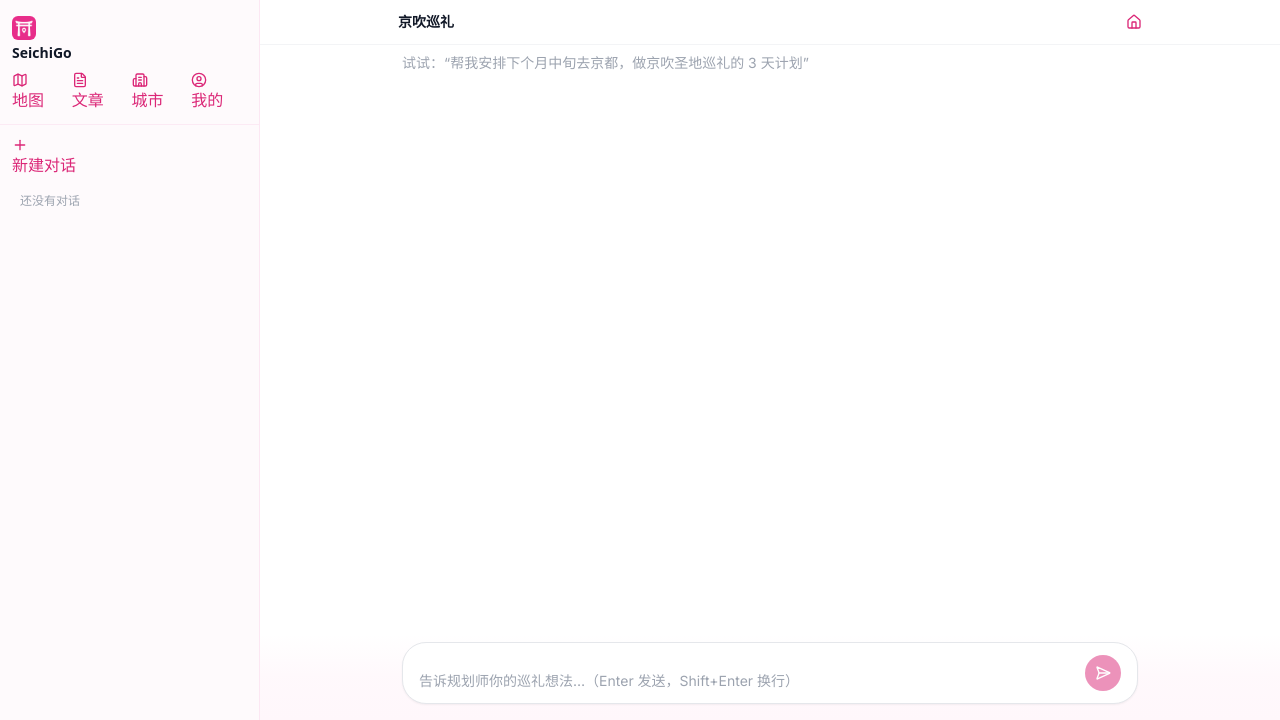
M5 「已停止」定格进历史思维链 › 本轮还没有任何遥测就被停止：仍留下一条「已停止」，不留空气泡
Type "帮我规划宇治 3 天" into the text box with placeholder "告诉规划师你的巡礼想法…（Enter 发送，Shift+Enter 换行）" at (748, 681), box [419,671,1077,691]
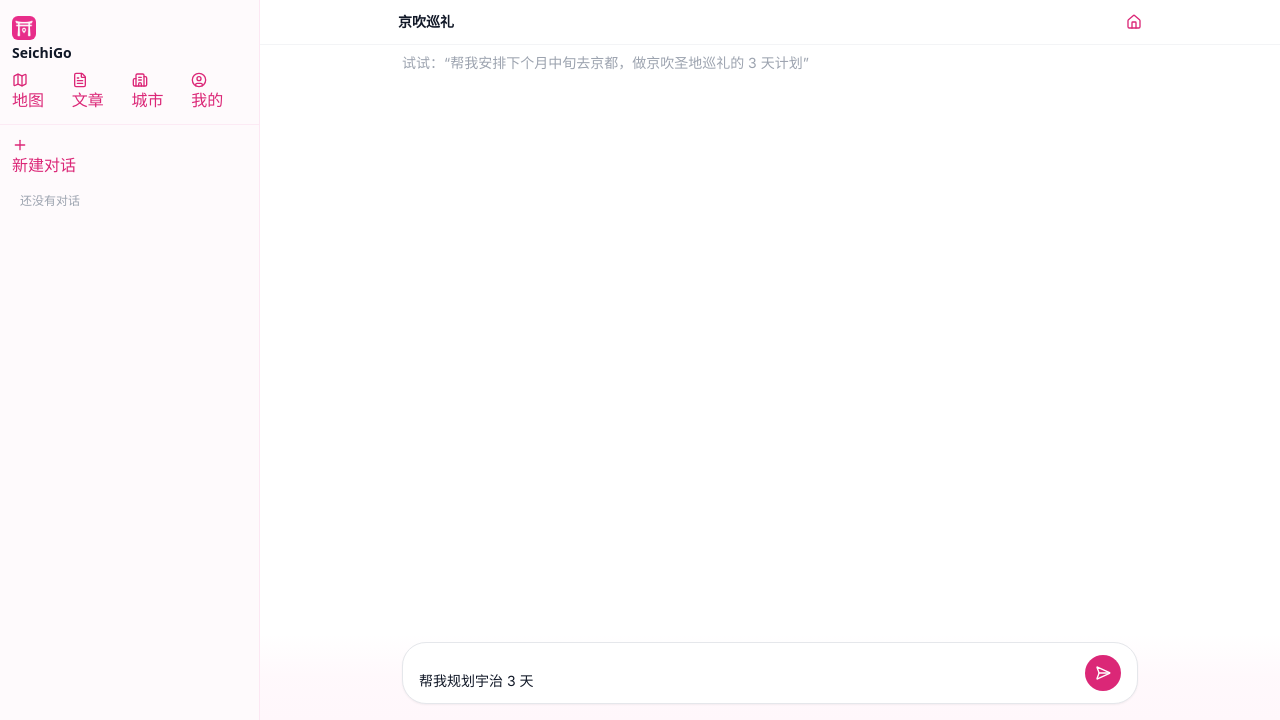
Click the button named "发送" at (1103, 673), box [1085,655,1121,691]
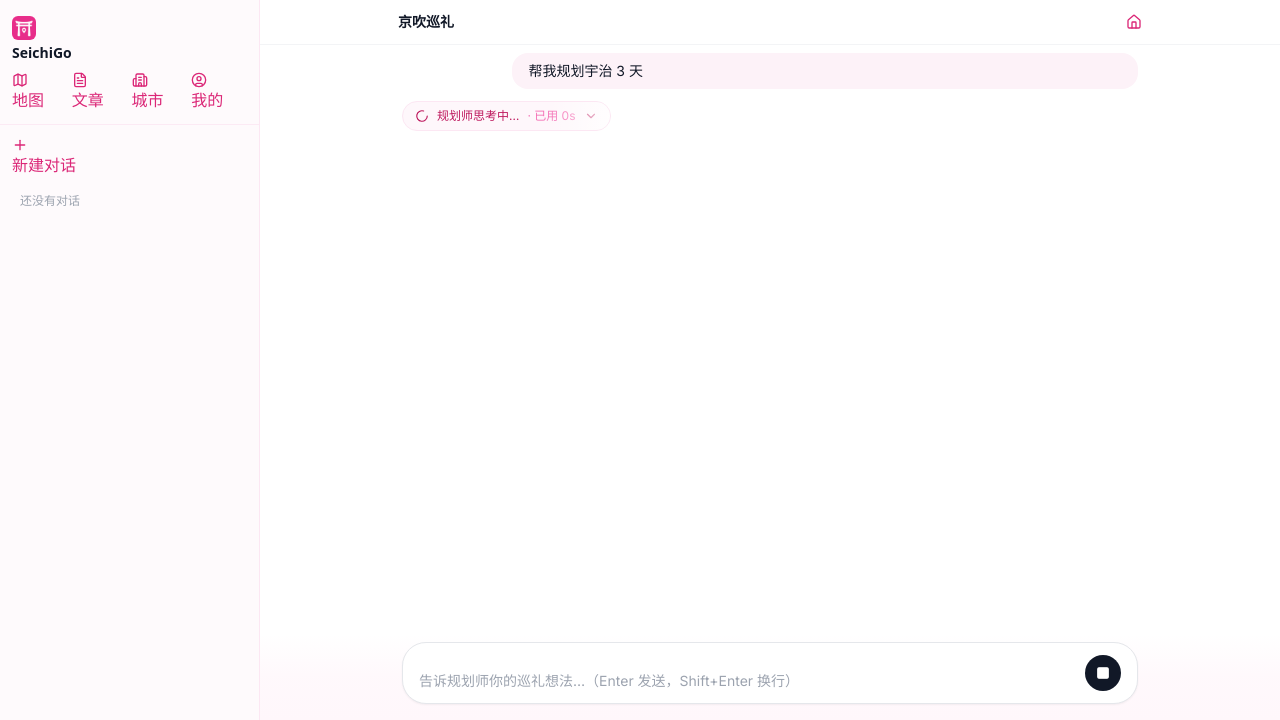
Now the button named "停止" is shown
Click the button named "停止" at (1103, 673), box [1085,655,1121,691]
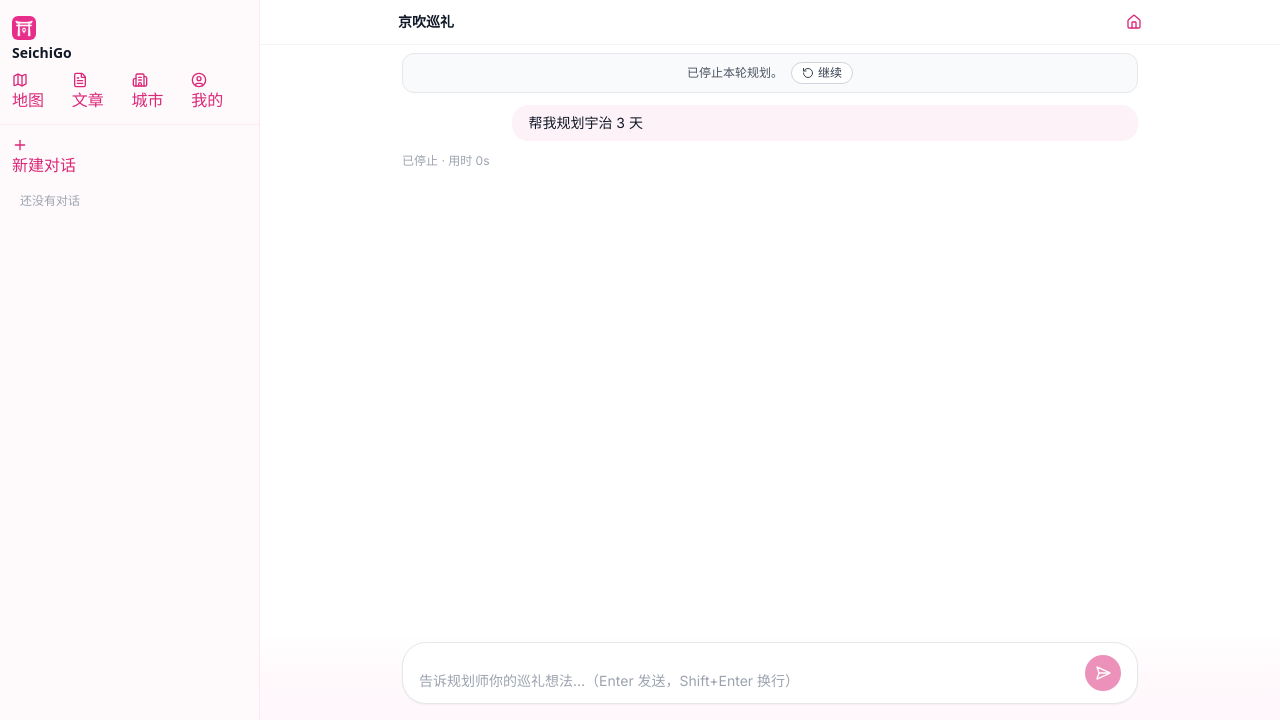
Now the text "已停止 · 用时 0s" is shown, box [402,153,490,168]
